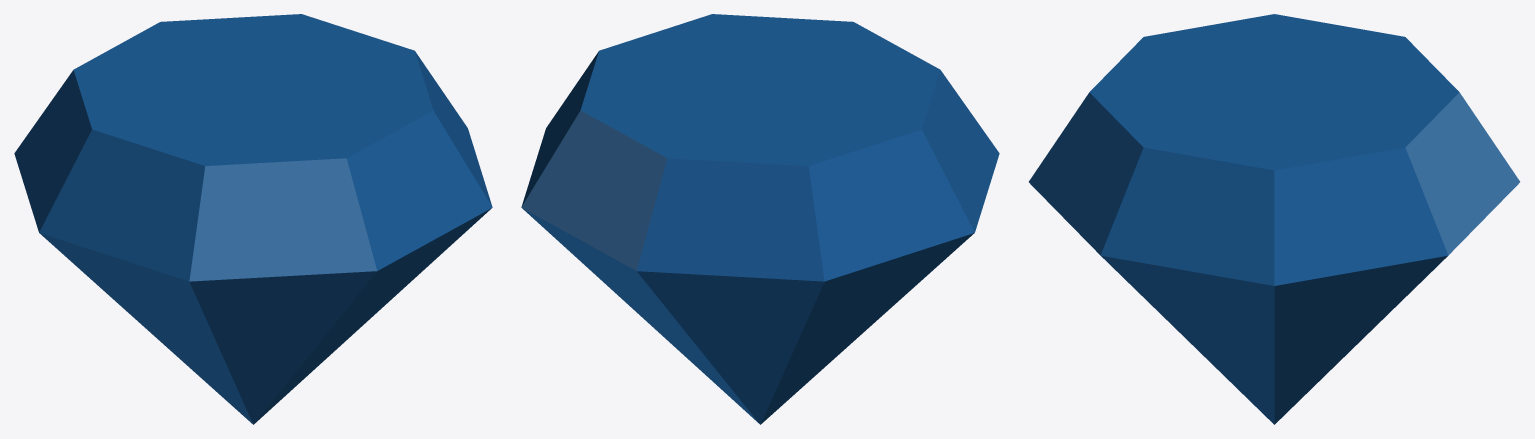
Rendered from money_crystal_v3.fbx.
3 renders of one model, left to right at view 1: azimuth 30°, elevation 25°; view 2: azimuth 150°, elevation 25°; view 3: azimuth 270°, elevation 25°, orthographic.
Visible parts, largest first — view 1: money_crystal_v3; view 2: money_crystal_v3; view 3: money_crystal_v3.
Boxes of the visible parts, x1,y1,x2,y2 form: money_crystal_v3: [14, 14, 492, 424]; money_crystal_v3: [521, 14, 999, 424]; money_crystal_v3: [1029, 14, 1519, 424].
Bounding box in the file's own units: 56.37 × 42.06 × 56.37.
